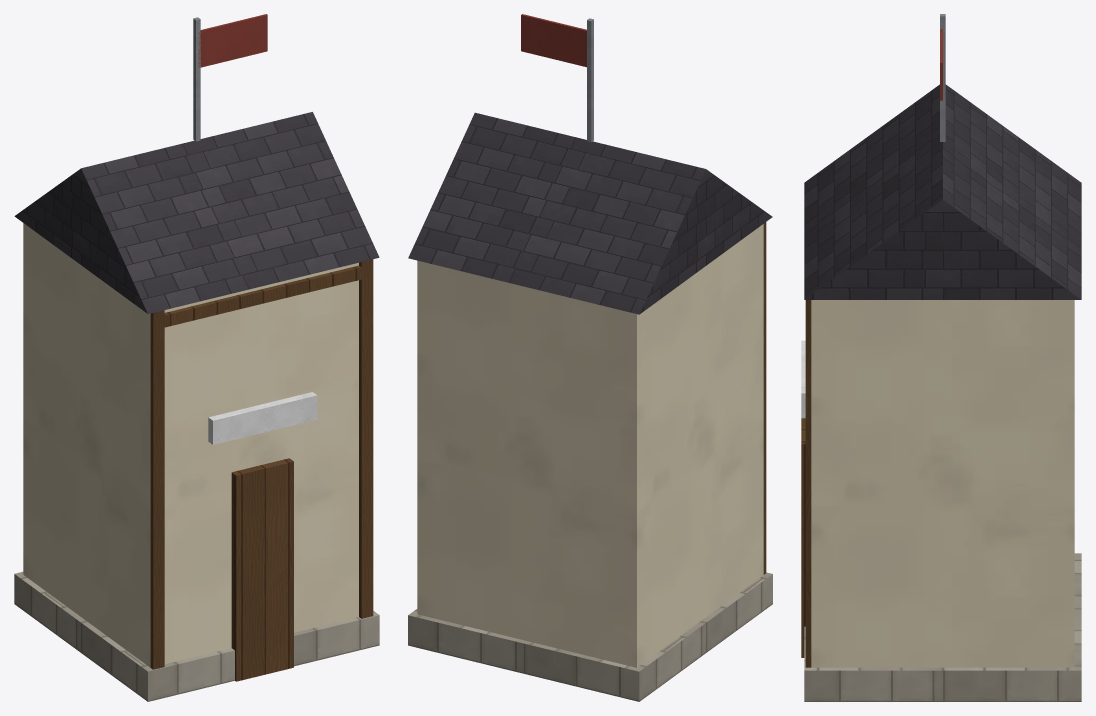
Rendered from category.governance.t3.glb.
3 views of the same model, side by side, from view 1: azimuth 30°, elevation 25°; view 2: azimuth 150°, elevation 25°; view 3: azimuth 270°, elevation 25° (orthographic). The views are drawn at different scales.
Parts seen in each view (by area): view 1: building.category.governance.t3; view 2: building.category.governance.t3; view 3: building.category.governance.t3.
Part boxes in pixels (x1,y1,x2,y2): building.category.governance.t3: (14,14,379,701); building.category.governance.t3: (408,14,772,701); building.category.governance.t3: (801,14,1081,701).
Bounding box in the file's own units: 2 × 5 × 2.02.
Materials: 7 (7 with a texture image).
